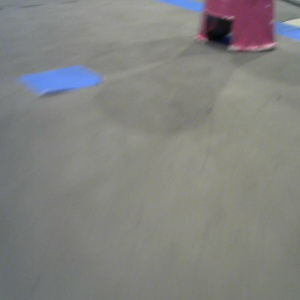right: (194, 1, 277, 52)
